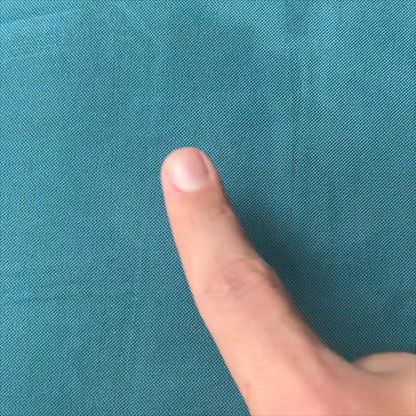fingertip: (145, 136, 228, 204)
